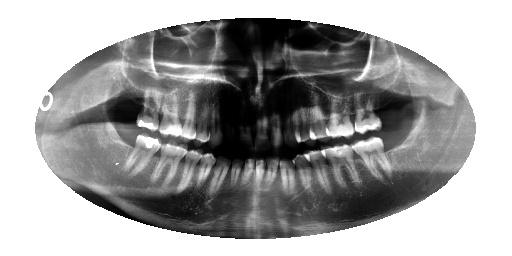i10decay: (229, 157, 244, 197)
i11healthy: (207, 153, 234, 202)
i12healthy: (193, 147, 218, 202)
i13healthy: (175, 148, 203, 203)
i14healthy: (149, 139, 190, 197)
i15healthy: (121, 133, 164, 184)
i2healthy: (349, 138, 395, 187)
i3healthy: (318, 140, 362, 194)
i4healthy: (302, 146, 337, 201)
i5healthy: (290, 149, 316, 203)
i6decay: (277, 153, 301, 203)
i7decay: (260, 154, 281, 202)
i8healthy: (251, 154, 267, 200)
i9healthy: (240, 156, 256, 198)
u10loss: (219, 104, 239, 157)
u11decay: (205, 95, 223, 151)
u12healthy: (188, 90, 211, 147)
u13healthy: (178, 87, 198, 146)
u14healthy: (156, 85, 181, 141)
u15healthy: (135, 87, 163, 136)
u2healthy: (349, 84, 384, 138)
u3healthy: (324, 93, 355, 141)
u4healthy: (303, 95, 331, 143)
u5healthy: (291, 98, 317, 145)
u6decay: (279, 101, 298, 150)
u7healthy: (267, 102, 282, 154)
u8healthy: (253, 95, 272, 157)
u9decay: (236, 103, 255, 156)
